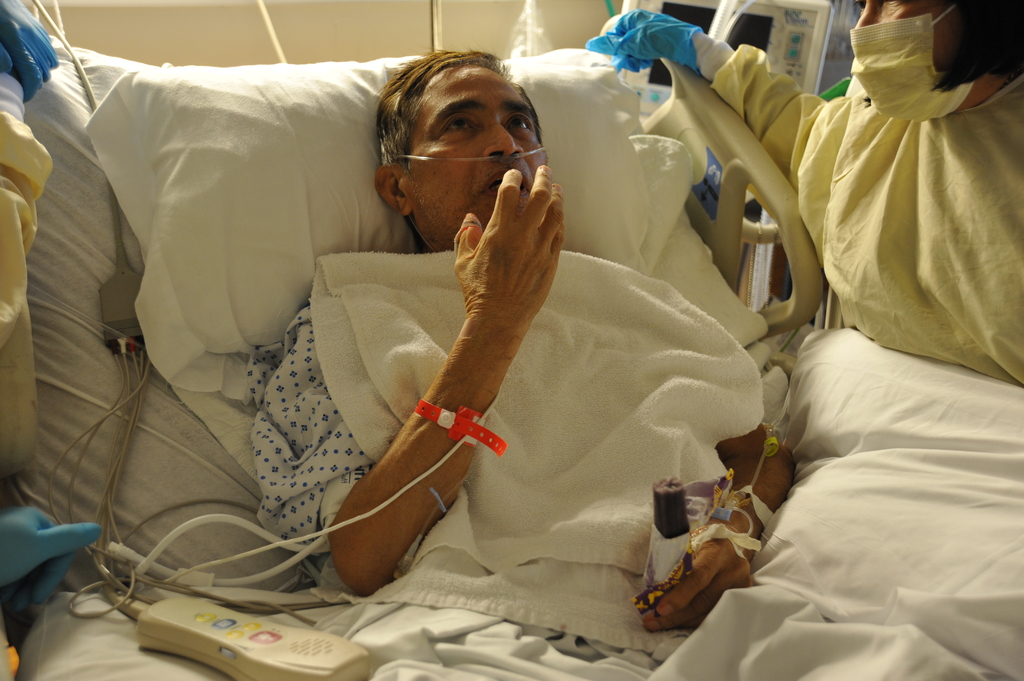Person: (584, 0, 1024, 386)
